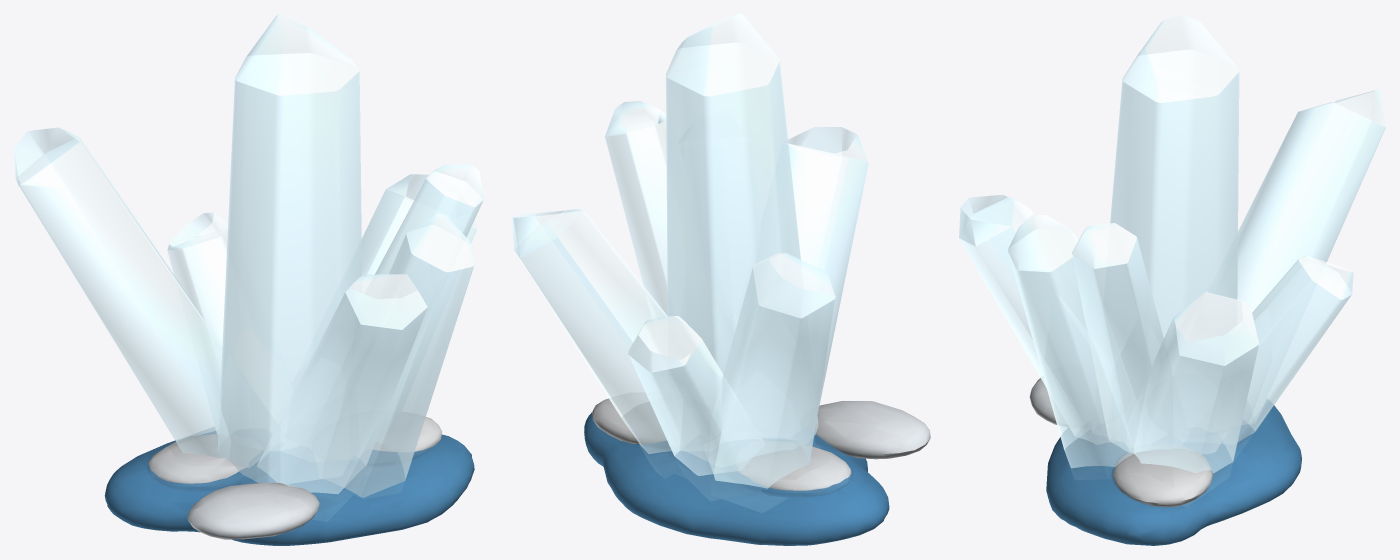
Rendered from frost_ice_crystal_lod1.glb.
The picture shows the model from 3 angles, left to right: view 1: azimuth 30°, elevation 25°; view 2: azimuth 150°, elevation 25°; view 3: azimuth 270°, elevation 25°; orthographic projection. The views are drawn at different scales.
Parts seen in each view (by area): view 1: frost_ice_crystal.001; view 2: frost_ice_crystal.001; view 3: frost_ice_crystal.001.
Boxes of the visible parts, <box> form: frost_ice_crystal.001: <box>14,14,483,545</box>; frost_ice_crystal.001: <box>512,14,930,545</box>; frost_ice_crystal.001: <box>959,14,1385,545</box>.
Size of the model in its own units: 5.01 by 6.01 by 5.03.
